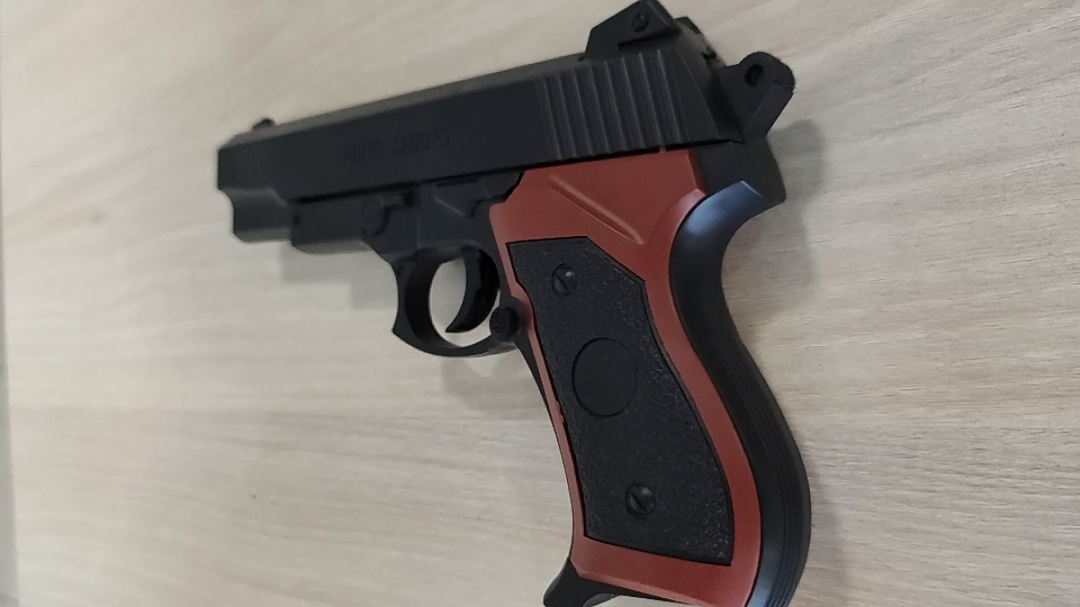gunw: (212, 5, 815, 607)
